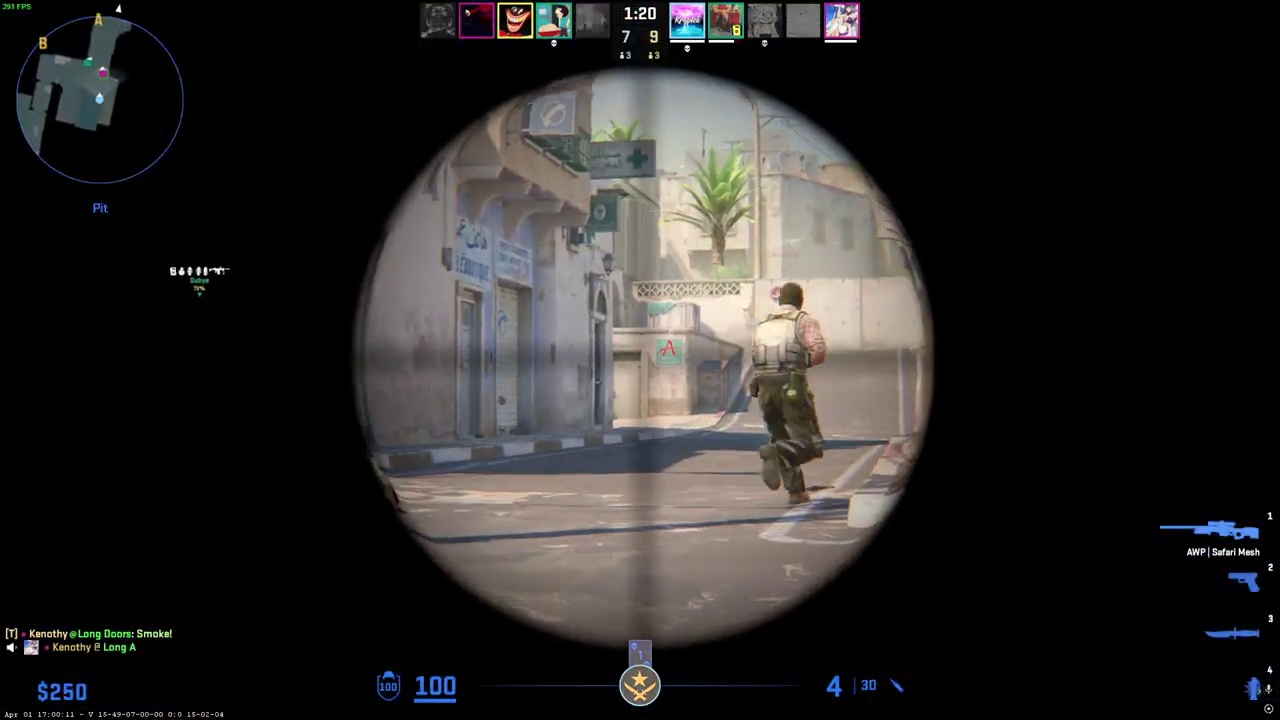Terrorist: (749, 282, 826, 504)
